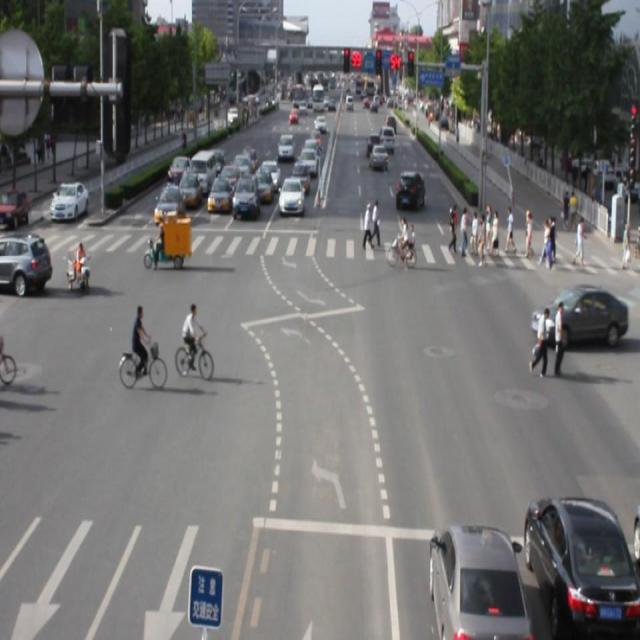car: (516, 491, 637, 635), (420, 502, 538, 640), (550, 286, 638, 366), (0, 223, 51, 309), (49, 180, 90, 230), (398, 164, 435, 216), (1, 182, 38, 230), (154, 183, 186, 237), (200, 142, 223, 198), (281, 175, 310, 217), (179, 159, 201, 212), (289, 152, 328, 179), (234, 171, 256, 217), (212, 174, 234, 214), (256, 164, 279, 202), (273, 123, 297, 159), (369, 144, 393, 171), (379, 126, 399, 152)
